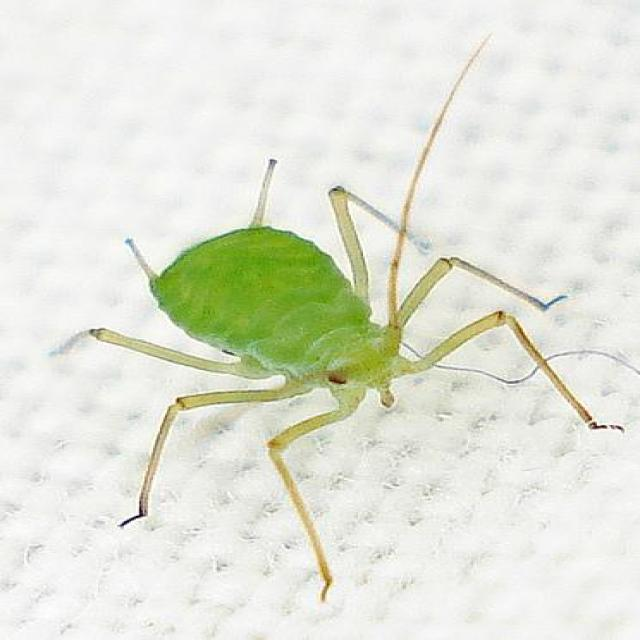Aphids: (75, 136, 606, 580)
